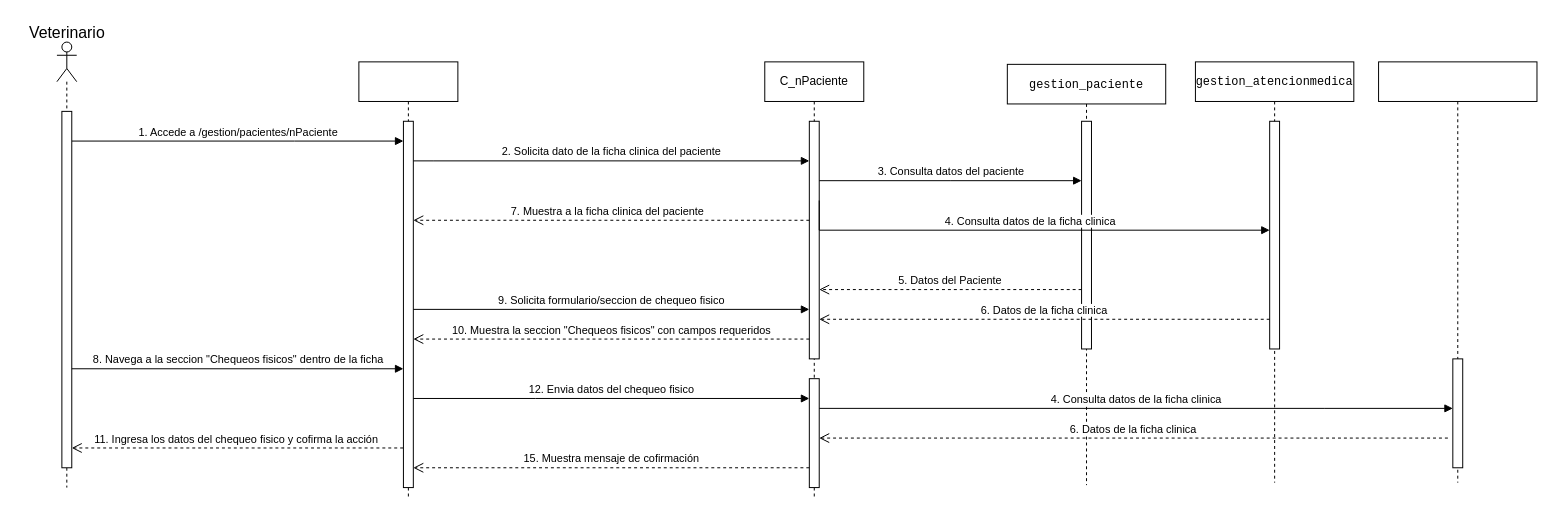
Image size: 1554x515. Some labels were removed from this diagram. Here are the shapes that lost their labels. From the top down, the box of each, then its label:
(358, 61, 458, 497): V_nPaciente
(1378, 61, 1537, 483): gestion_chequeofisico
